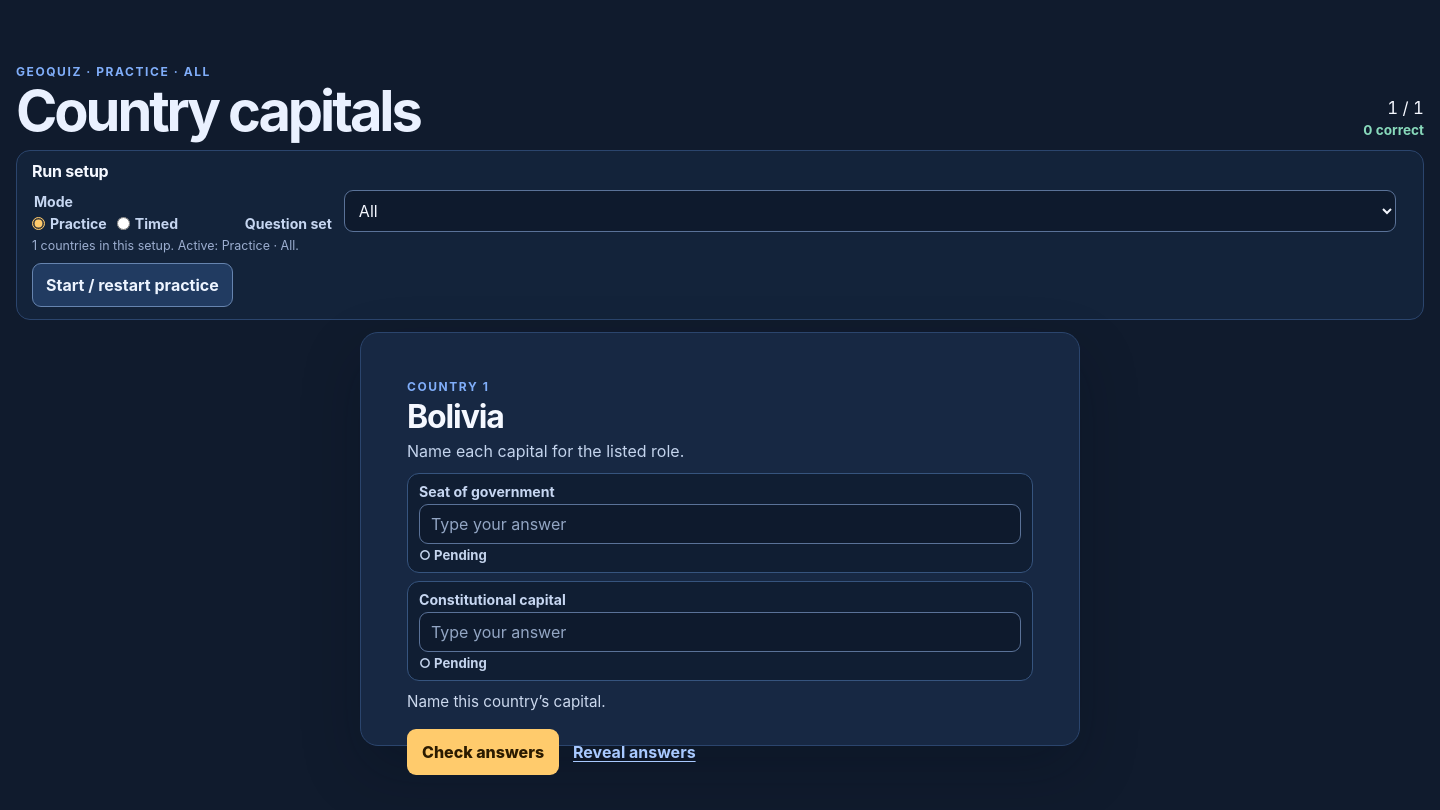
CountryCapitalQuiz › uses natural role feedback after a timed Bolivia capital lock
The image size is (1440, 810).
Click the radio button labelled "Timed": (123, 223) 117,217 -> 130,230
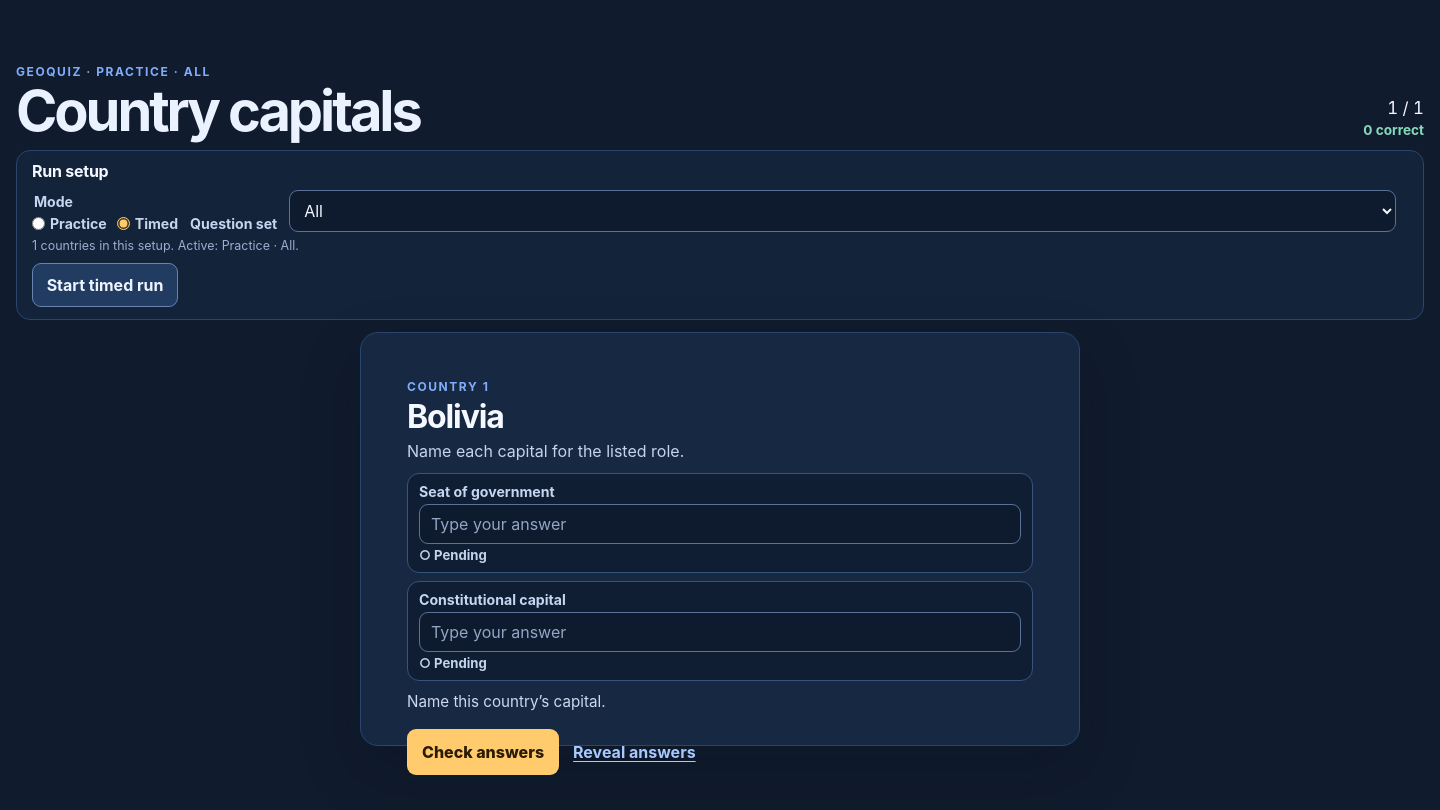
Click the button "Start timed run": (105, 285) 32,263 -> 178,307
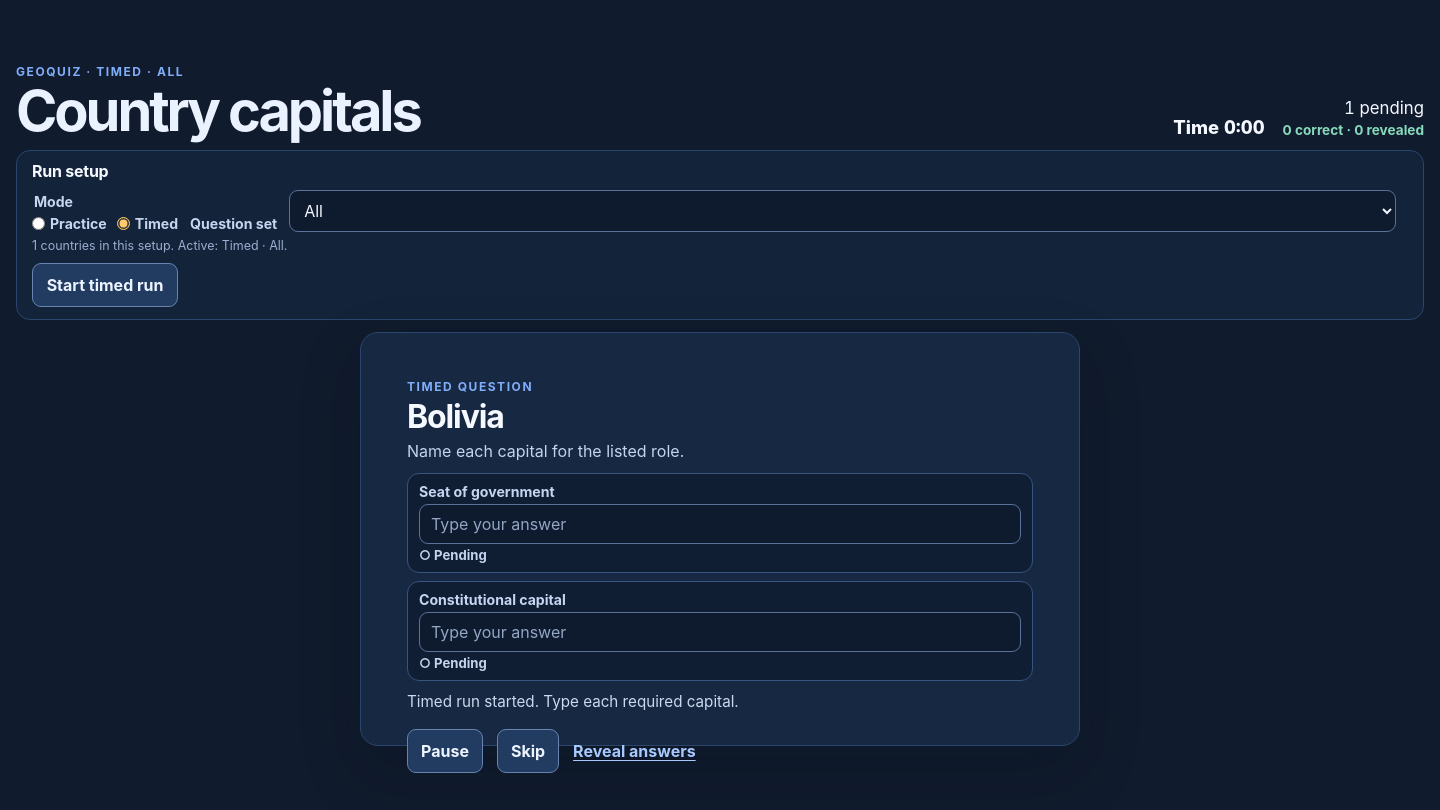
In the field labelled "Constitutional capital": (720, 632) 419,612 -> 1021,652, type "Sucre"
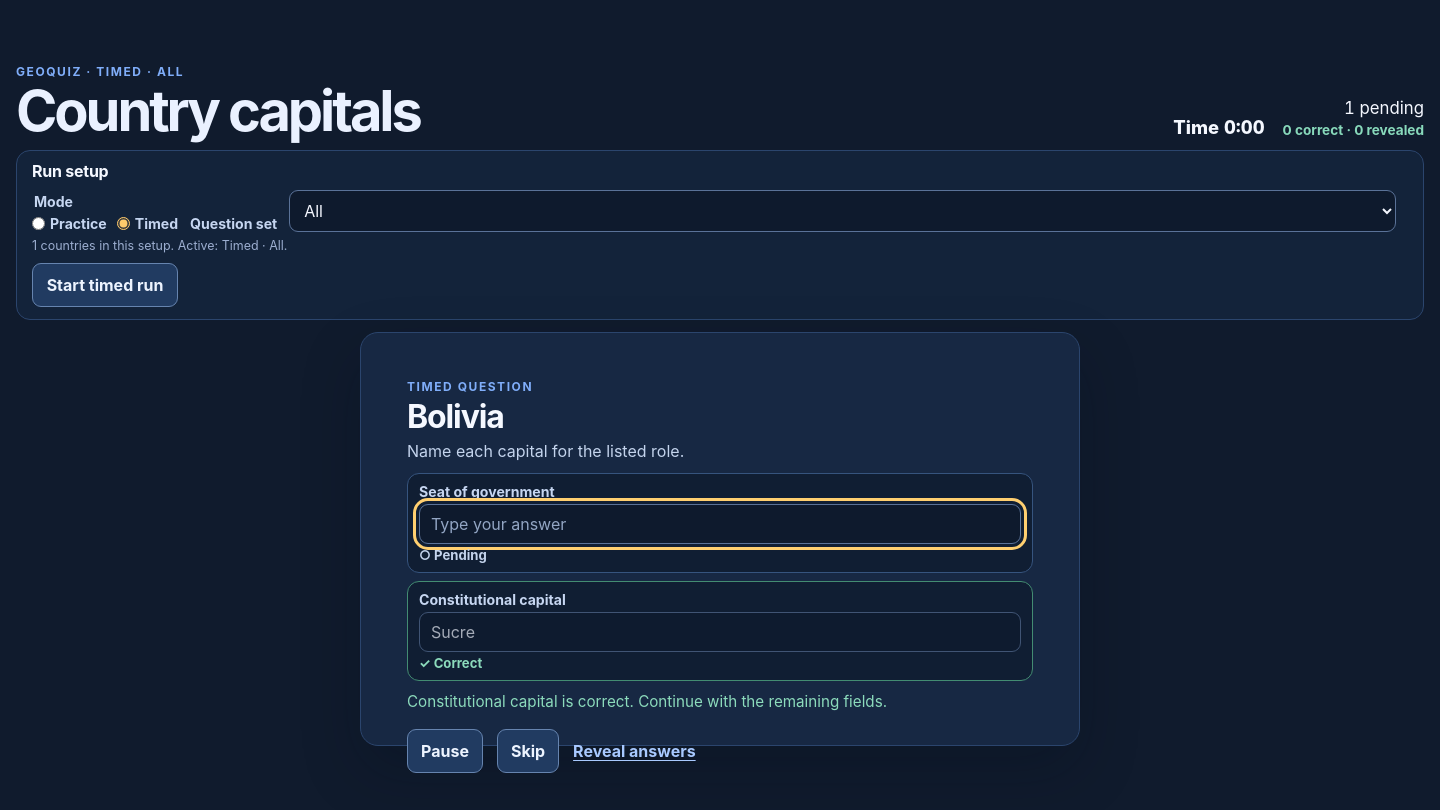
Now the text "Constitutional capital is correct. Continue with the remaining fields." is shown, box 407,692 -> 887,711
